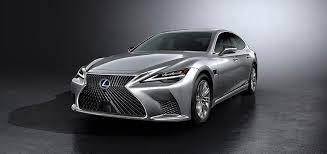lexus: (96, 75, 116, 98)
